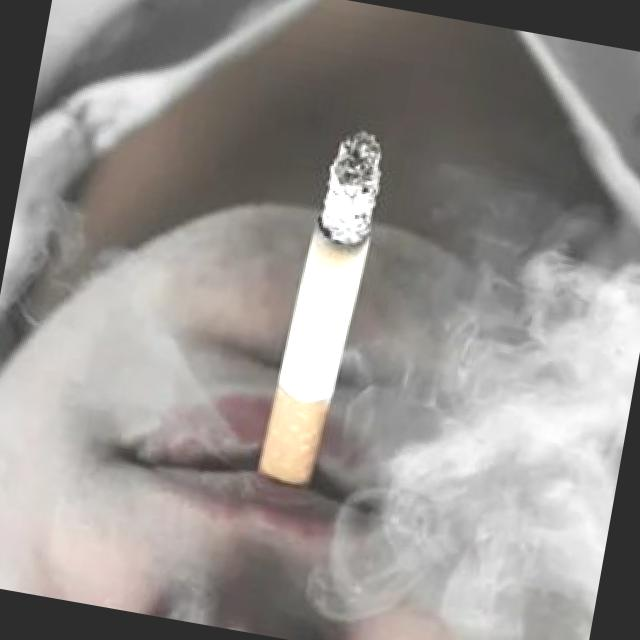smoke: (240, 108, 399, 501)
